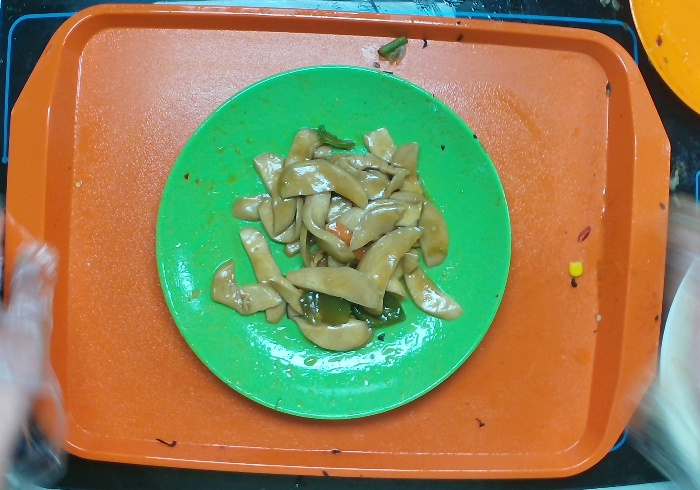HZYJPL-Lv_Se_Yuan_Pan: (154, 63, 512, 422)
